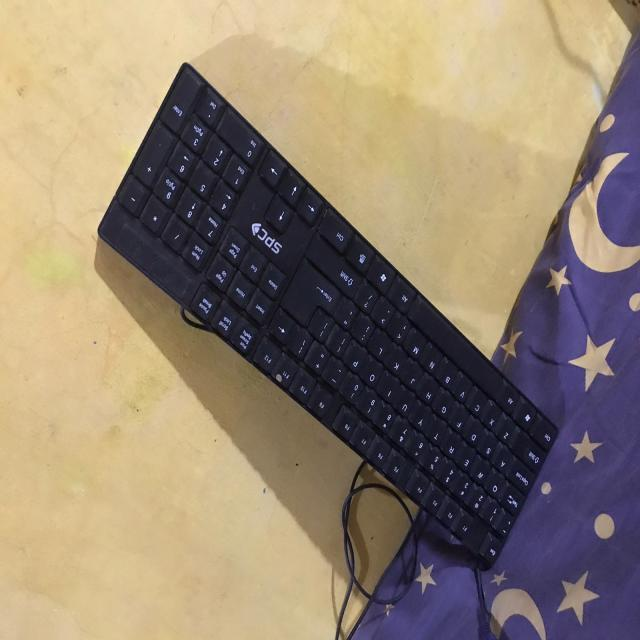-mouse-: (95, 63, 563, 571)
